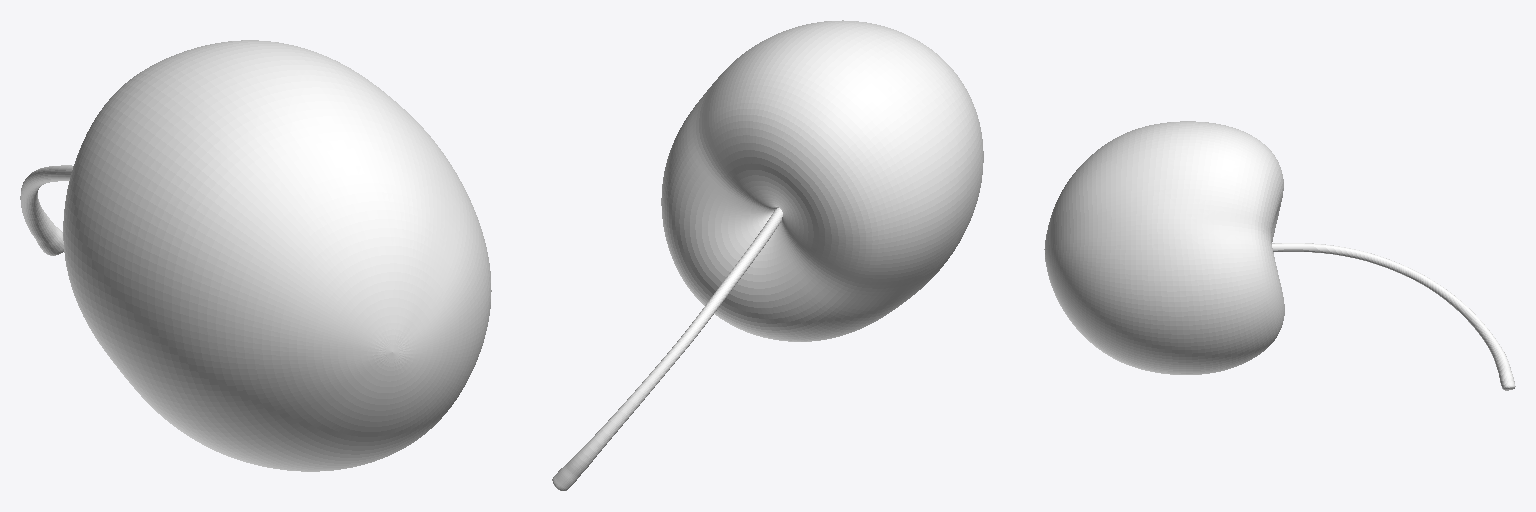
The robot description file, URDF, robot "model.urdf":
<robot name="model.urdf">
  <link name="baseLink">
    <contact>
      <friction_anchor/>
      <lateral_friction value="0.308"/>
      <spinning_friction value="0.001"/>
      <rolling_friction value="0.001"/>
      <contact_cfm value="0.0"/>
      <contact_erp value="1.0"/>
    </contact>
    <inertial>
       <origin rpy="0 0 0" xyz="0.0 0.0 0.0"/>
       <mass value=".0069"/>
       <inertia ixx="1e-3" ixy="0" ixz="0" iyy="1e-3" iyz="0" izz="1e-3"/>
    </inertial>
    <visual>
      <geometry>
        <mesh filename="cherry.obj" scale="1 1 1"/>
      </geometry>
      <material name="white">
        <color rgba="1 1 1 1"/>
      </material>
    </visual>
    <collision>
      <geometry>
        <mesh filename="cherry.obj" scale="1 1 1"/>
      </geometry>
    </collision>
  </link>
</robot>

--- Facts derived from the render (not from the file) ---
The picture shows the robot from 3 angles, left to right: view 1: azimuth 30°, elevation 25°; view 2: azimuth 150°, elevation 25°; view 3: azimuth 270°, elevation 25°; orthographic projection.
Robot: model.urdf — 1 links, 0 joints (none); root link baseLink; default pose: all joints at 0.
Links seen in each view (by area): view 1: baseLink; view 2: baseLink; view 3: baseLink.
Boxes of the visible links, x1=… form: baseLink: x1=20, y1=40, x2=491, y2=471; baseLink: x1=552, y1=20, x2=983, y2=490; baseLink: x1=1044, y1=121, x2=1515, y2=390.
Size in the robot's own frame: 101 by 199 by 111 metres.
Meshes: 1 distinct files referenced, 1 mesh visuals loaded (1 OBJ).